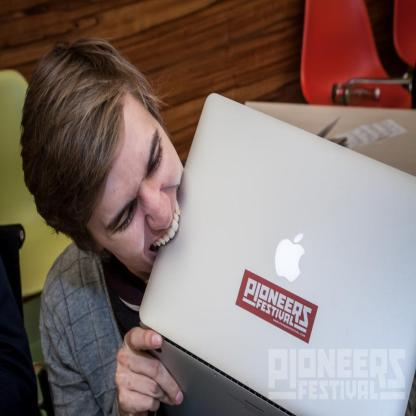board: (144, 104, 416, 382)
